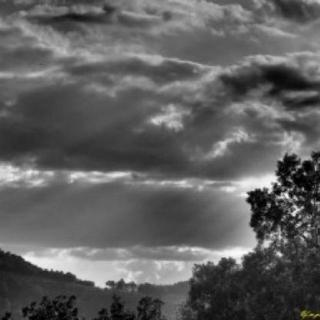Nimbostratus: (0, 0, 320, 272)
